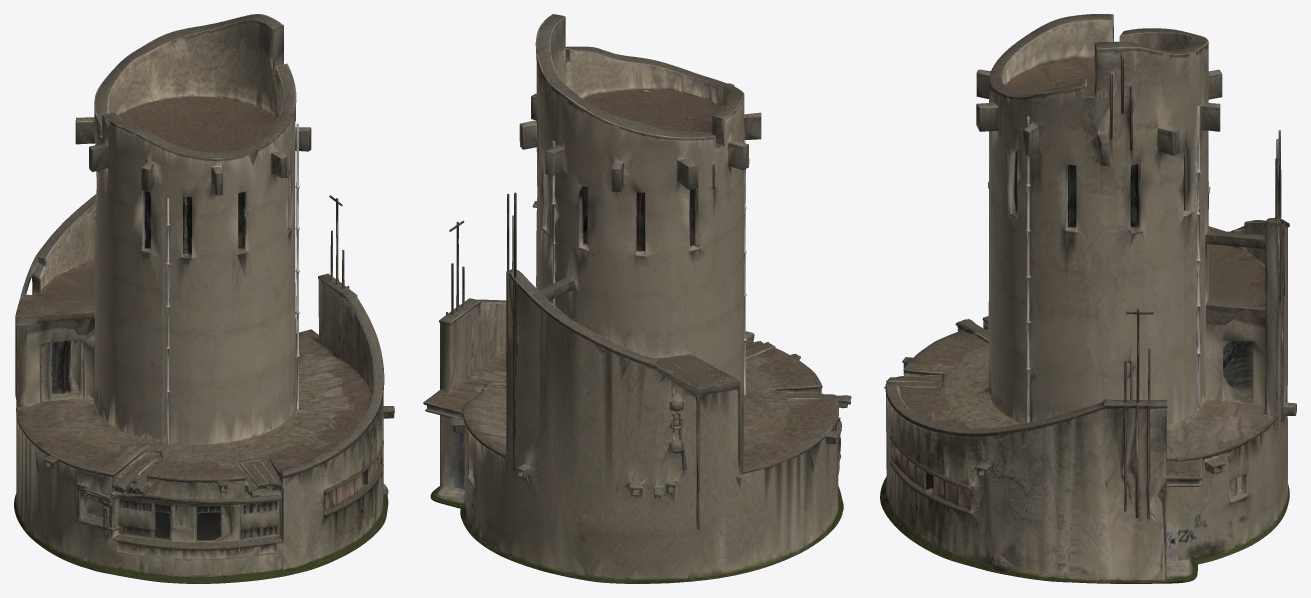
Rendered from chiesa_nives.glb.
3 views of the same model, side by side, from view 1: azimuth 30°, elevation 25°; view 2: azimuth 150°, elevation 25°; view 3: azimuth 270°, elevation 25° (orthographic). The views are drawn at different scales.
Parts seen in each view (by area): view 1: Mesh_0; view 2: Mesh_0; view 3: Mesh_0.
Boxes of the visible parts, <box> form: Mesh_0: <box>14,14,394,583</box>; Mesh_0: <box>423,14,851,583</box>; Mesh_0: <box>880,14,1296,583</box>.
Bounding box in the file's own units: 1.47 × 1.9 × 1.45.
1 material, 1 textured.
